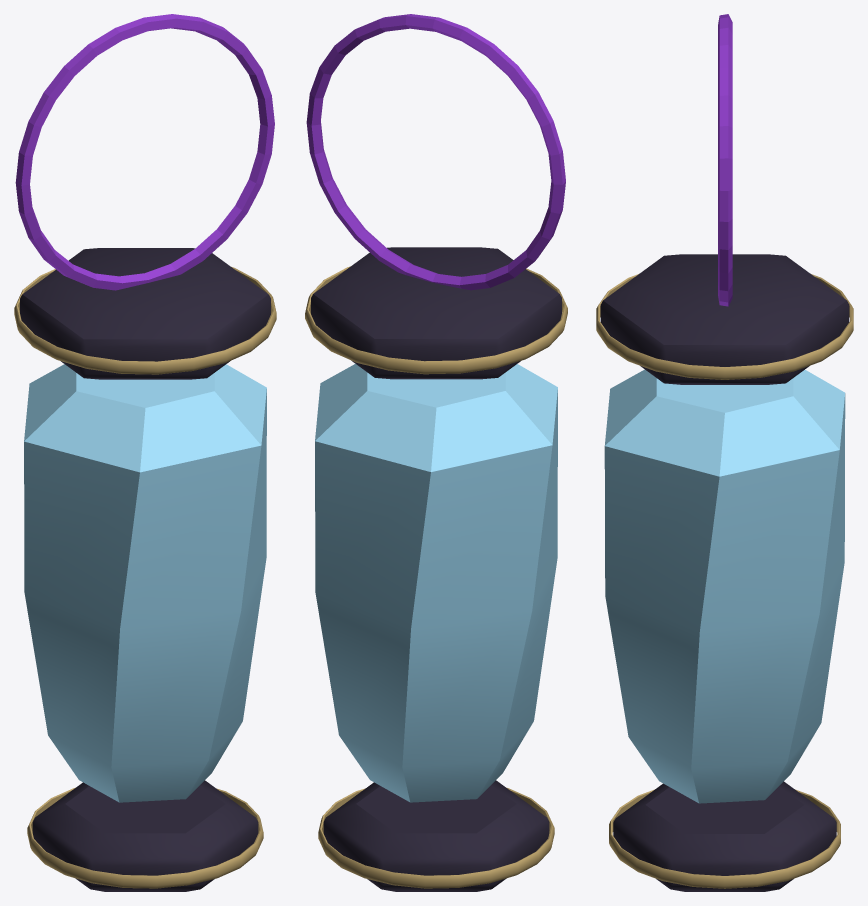
The model's file is Kit_Limb_LeagueCrystal_L.glb.
3 views of the same model, side by side, from view 1: azimuth 30°, elevation 25°; view 2: azimuth 150°, elevation 25°; view 3: azimuth 270°, elevation 25° (orthographic).
Parts seen in each view (by area): view 1: Kit_Limb_LeagueCrystal_L; view 2: Kit_Limb_LeagueCrystal_L; view 3: Kit_Limb_LeagueCrystal_L.
Boxes of the visible parts, x1=… form: Kit_Limb_LeagueCrystal_L: x1=14, y1=14, x2=276, y2=891; Kit_Limb_LeagueCrystal_L: x1=305, y1=14, x2=567, y2=891; Kit_Limb_LeagueCrystal_L: x1=596, y1=14, x2=853, y2=891.
Size of the model in its own units: 0.1371 by 0.4318 by 0.1207.
